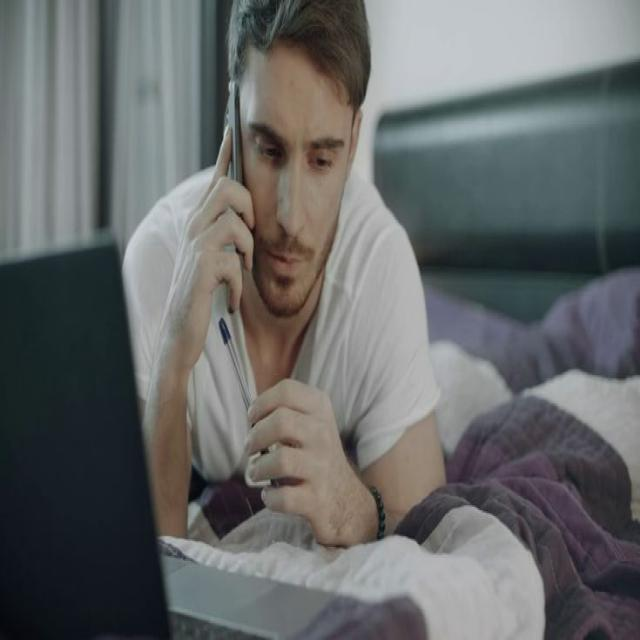phone: (220, 82, 246, 277)
